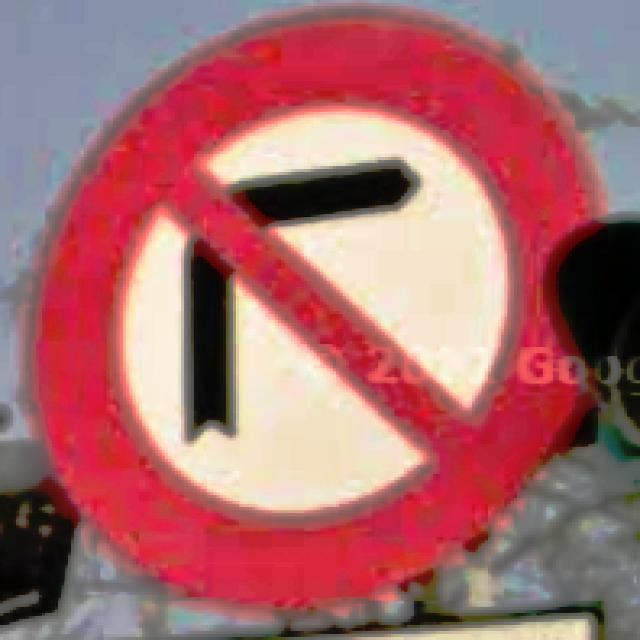noturnright: (19, 3, 604, 622)
